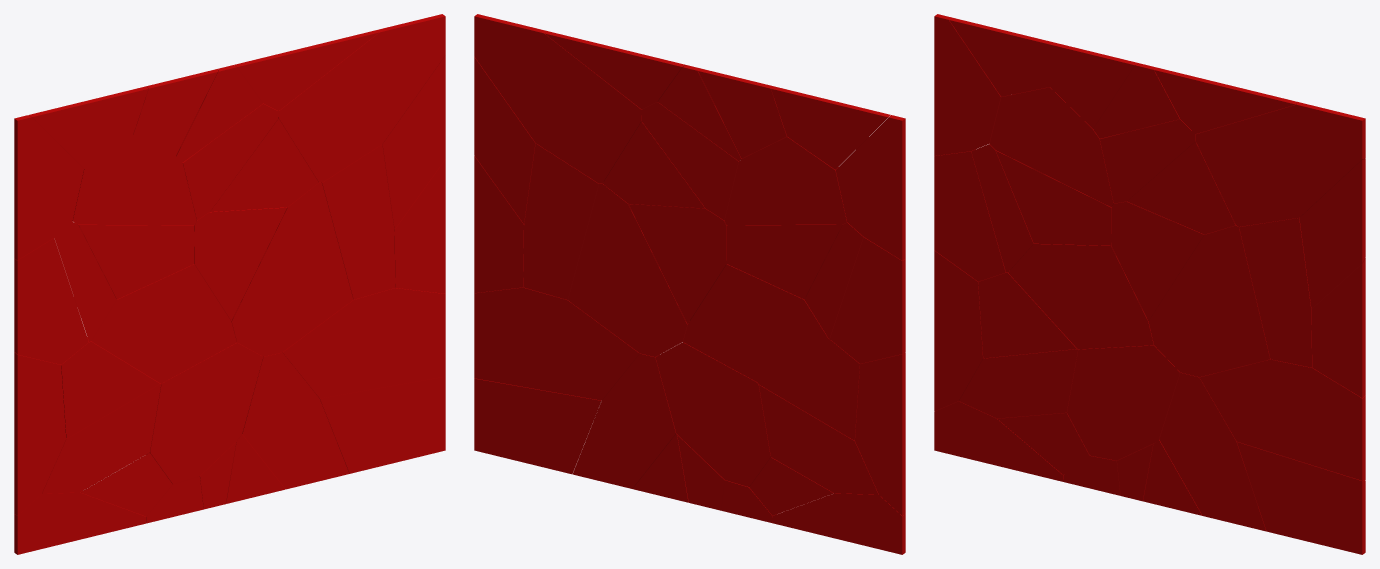
The model's file is glass01.fbx.
The picture shows the model from 3 angles, left to right: view 1: azimuth 30°, elevation 25°; view 2: azimuth 150°, elevation 25°; view 3: azimuth 330°, elevation 25°; orthographic projection.
Parts seen in each view (by area): view 1: Plane.007; view 2: Plane.007; view 3: Plane.007.
Boxes of the visible parts, box(x1,y1,x2,y2) form: Plane.007: box(14, 14, 445, 554); Plane.007: box(474, 14, 905, 554); Plane.007: box(934, 14, 1365, 554).
Bounding box in the file's own units: 381 × 4.93 × 369.
